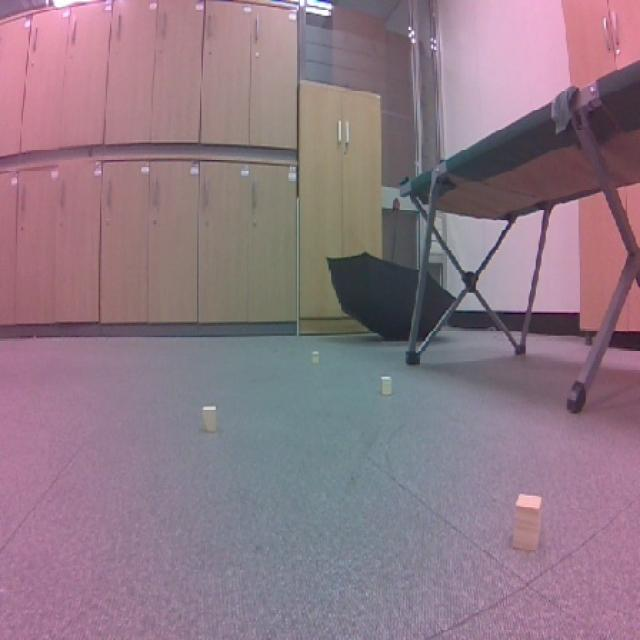obstacle: (503, 488, 554, 566), (192, 398, 230, 439)
